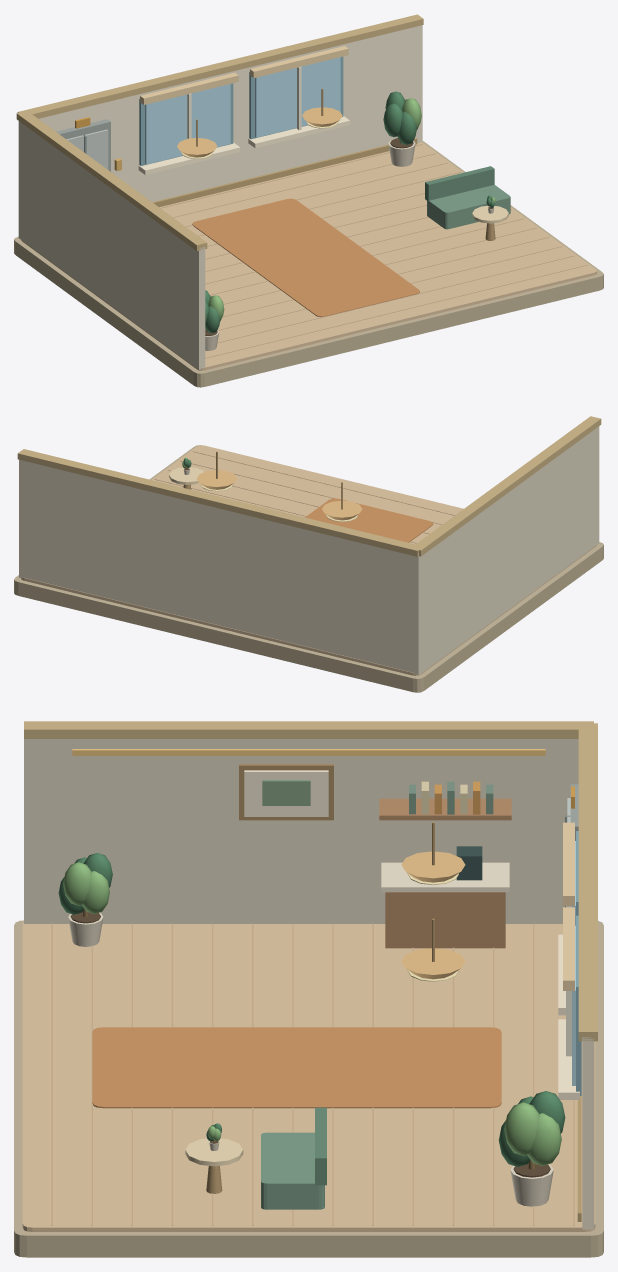
The model's file is room-signature.glb.
The picture shows the model from 3 angles, top to bottom: view 1: azimuth 30°, elevation 25°; view 2: azimuth 150°, elevation 25°; view 3: azimuth 270°, elevation 25°; orthographic projection. The views are drawn at different scales.
Parts seen in each view (by area): view 1: room-signature; view 2: room-signature; view 3: room-signature.
Boxes of the visible parts, x1,y1,x2,y2 form: room-signature: [14, 14, 603, 387]; room-signature: [14, 416, 603, 692]; room-signature: [14, 721, 603, 1257].
Size of the model in its own units: 9.3 by 3.05 by 7.35.
